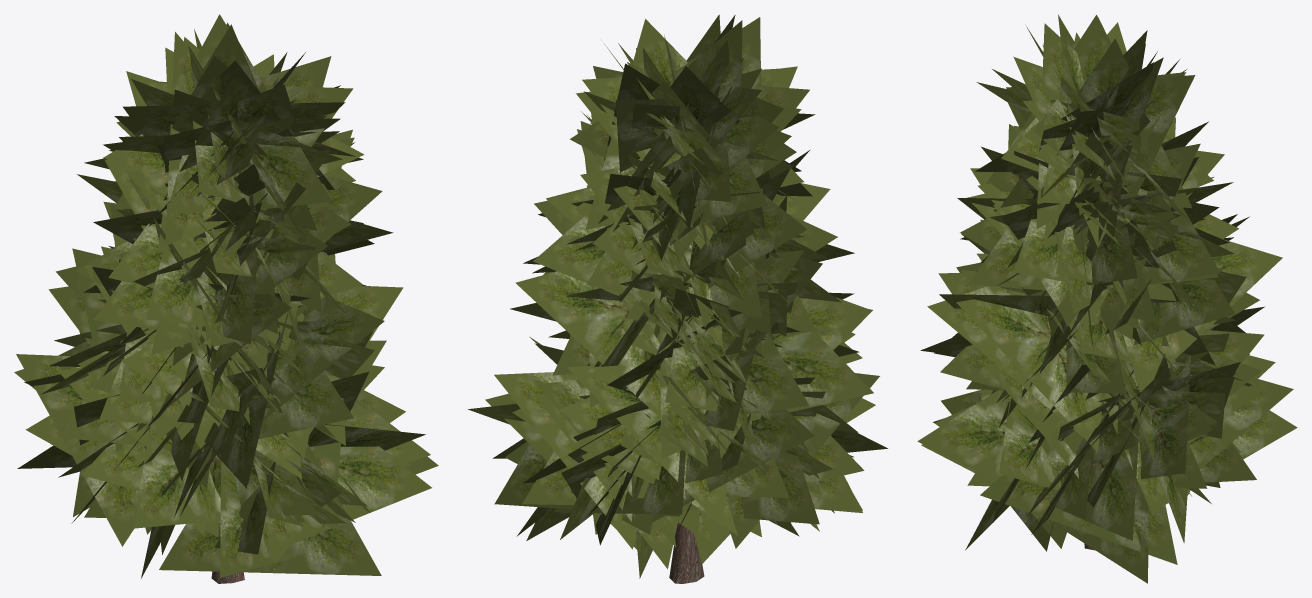
Rendered from Casuarina_Equisetifolia_Autumn_Young.glb.
3 renders of one model, left to right at view 1: azimuth 30°, elevation 25°; view 2: azimuth 150°, elevation 25°; view 3: azimuth 270°, elevation 25°, orthographic. The views are drawn at different scales.
Parts seen in each view (by area): view 1: Casuarina_Equisetifolia_Autumn_Young__LOD3; view 2: Casuarina_Equisetifolia_Autumn_Young__LOD3; view 3: Casuarina_Equisetifolia_Autumn_Young__LOD3.
Boxes of the visible parts, <box> form: Casuarina_Equisetifolia_Autumn_Young__LOD3: <box>14,14,438,583</box>; Casuarina_Equisetifolia_Autumn_Young__LOD3: <box>468,14,887,583</box>; Casuarina_Equisetifolia_Autumn_Young__LOD3: <box>917,14,1297,583</box>.
Bounding box in the file's own units: 5.26 × 7.54 × 5.06.
2 materials, 2 textured.
